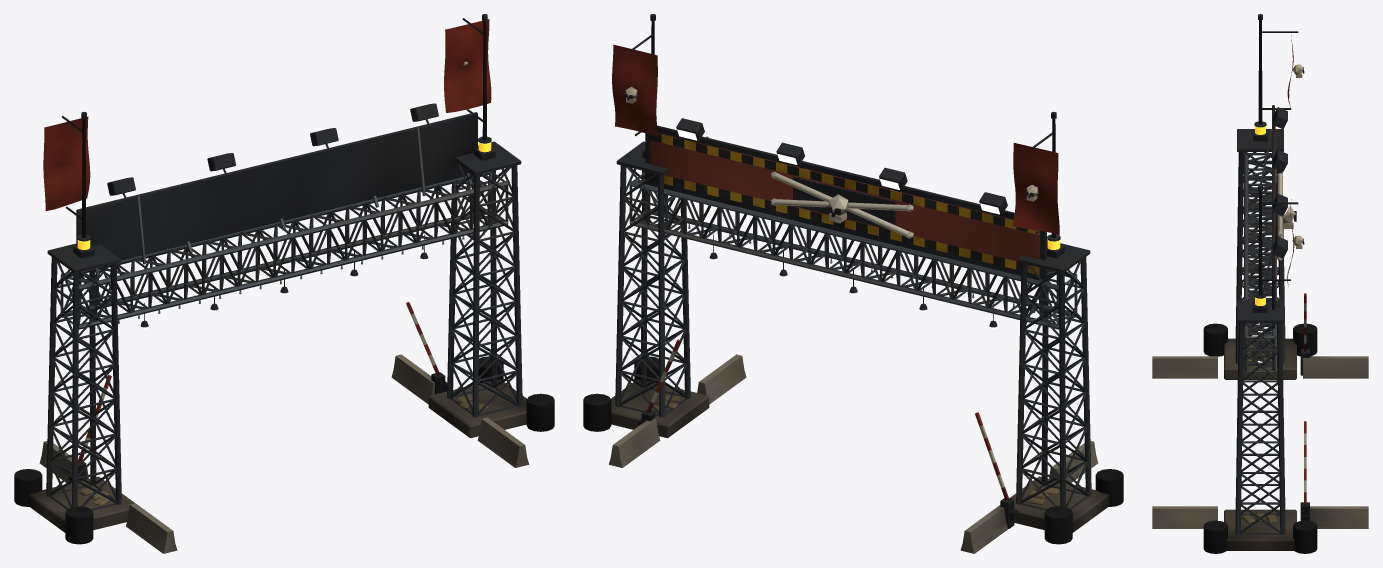
File: road_gate.glb
3 renders of one model, left to right at view 1: azimuth 30°, elevation 25°; view 2: azimuth 150°, elevation 25°; view 3: azimuth 270°, elevation 25°, orthographic. The views are drawn at different scales.
Visible parts, largest first — view 1: steel_beam, metal_dark, canvas, concrete_dark, concrete, rubber; view 2: steel_beam, metal_dark, paint2, canvas, hazard, concrete_dark, concrete, rubber, bone; view 3: steel_beam, concrete, metal_dark, concrete_dark, rubber, bone, canvas.
Part boxes in pixels (x1=…): steel_beam: x1=46, y1=127, x2=522, y2=510; metal_dark: x1=47, y1=14, x2=521, y2=480; canvas: x1=43, y1=19, x2=491, y2=505; concrete_dark: x1=28, y1=379, x2=526, y2=532; concrete: x1=39, y1=354, x2=528, y2=553; rubber: x1=14, y1=356, x2=554, y2=544; steel_beam: x1=615, y1=136, x2=1091, y2=510; metal_dark: x1=616, y1=14, x2=1090, y2=528; paint2: x1=650, y1=133, x2=1039, y2=274; canvas: x1=612, y1=44, x2=1059, y2=504; hazard: x1=650, y1=133, x2=1039, y2=487; concrete_dark: x1=611, y1=379, x2=1109, y2=532; concrete: x1=609, y1=354, x2=1098, y2=553; rubber: x1=583, y1=356, x2=1123, y2=544; bone: x1=625, y1=86, x2=1038, y2=238; steel_beam: x1=1235, y1=130, x2=1285, y2=534; concrete: x1=1152, y1=356, x2=1368, y2=528; metal_dark: x1=1237, y1=14, x2=1309, y2=520; concrete_dark: x1=1224, y1=338, x2=1296, y2=550; rubber: x1=1203, y1=323, x2=1317, y2=553; bone: x1=1276, y1=64, x2=1303, y2=260; canvas: x1=1241, y1=35, x2=1294, y2=523.
Size of what is drawn, in the model's own units: 20.84 by 16.4 by 9.2.
